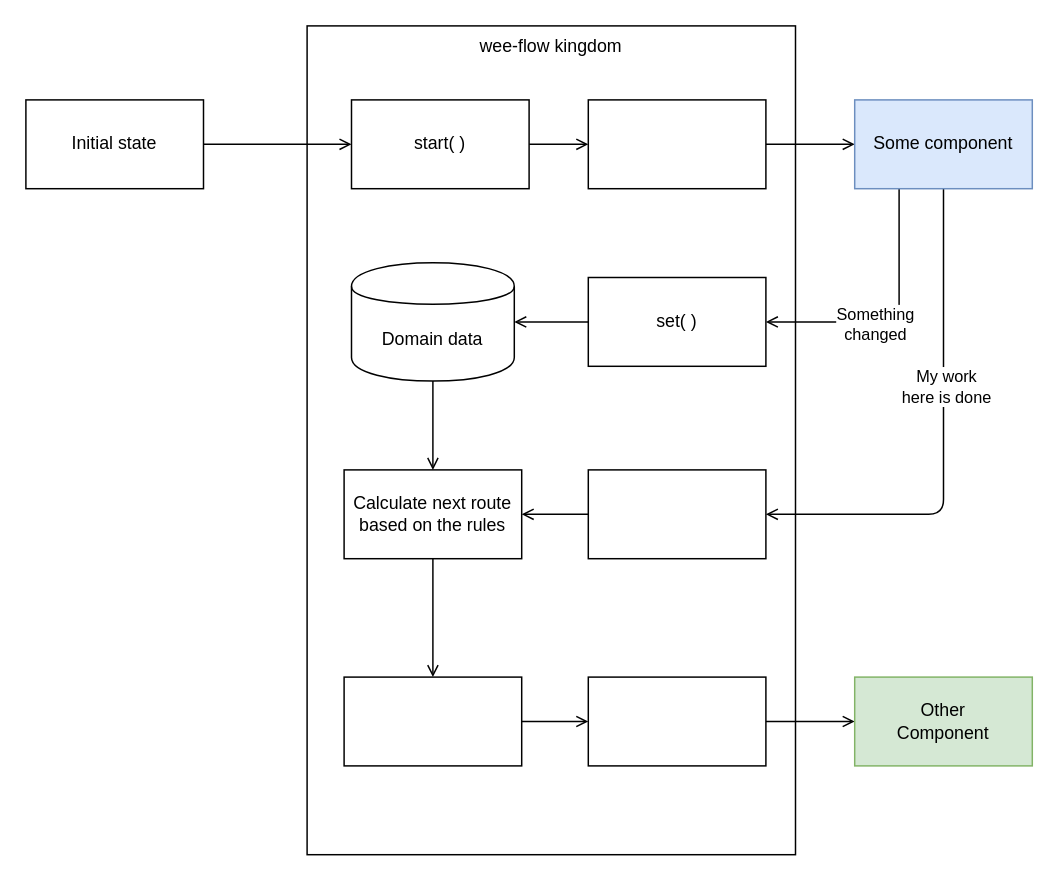
The diagram is 1058 pixels wide and 881 high, and some of its shapes have lost their labels. Here are the shapes that lost their labels. From the top down, the centre of each, then its label:
At pixel 676 143: "navigate to first route".
At pixel 676 513: "next( )".
At pixel 432 721: "update current route".
At pixel 676 721: "navigate to the next route".
